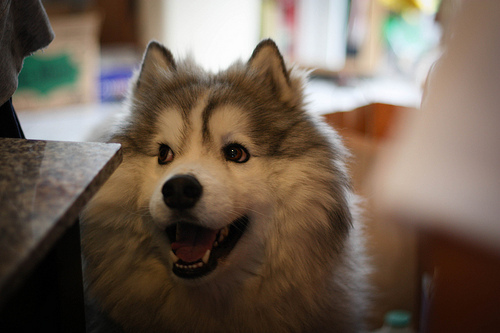dog: (82, 37, 370, 331)
